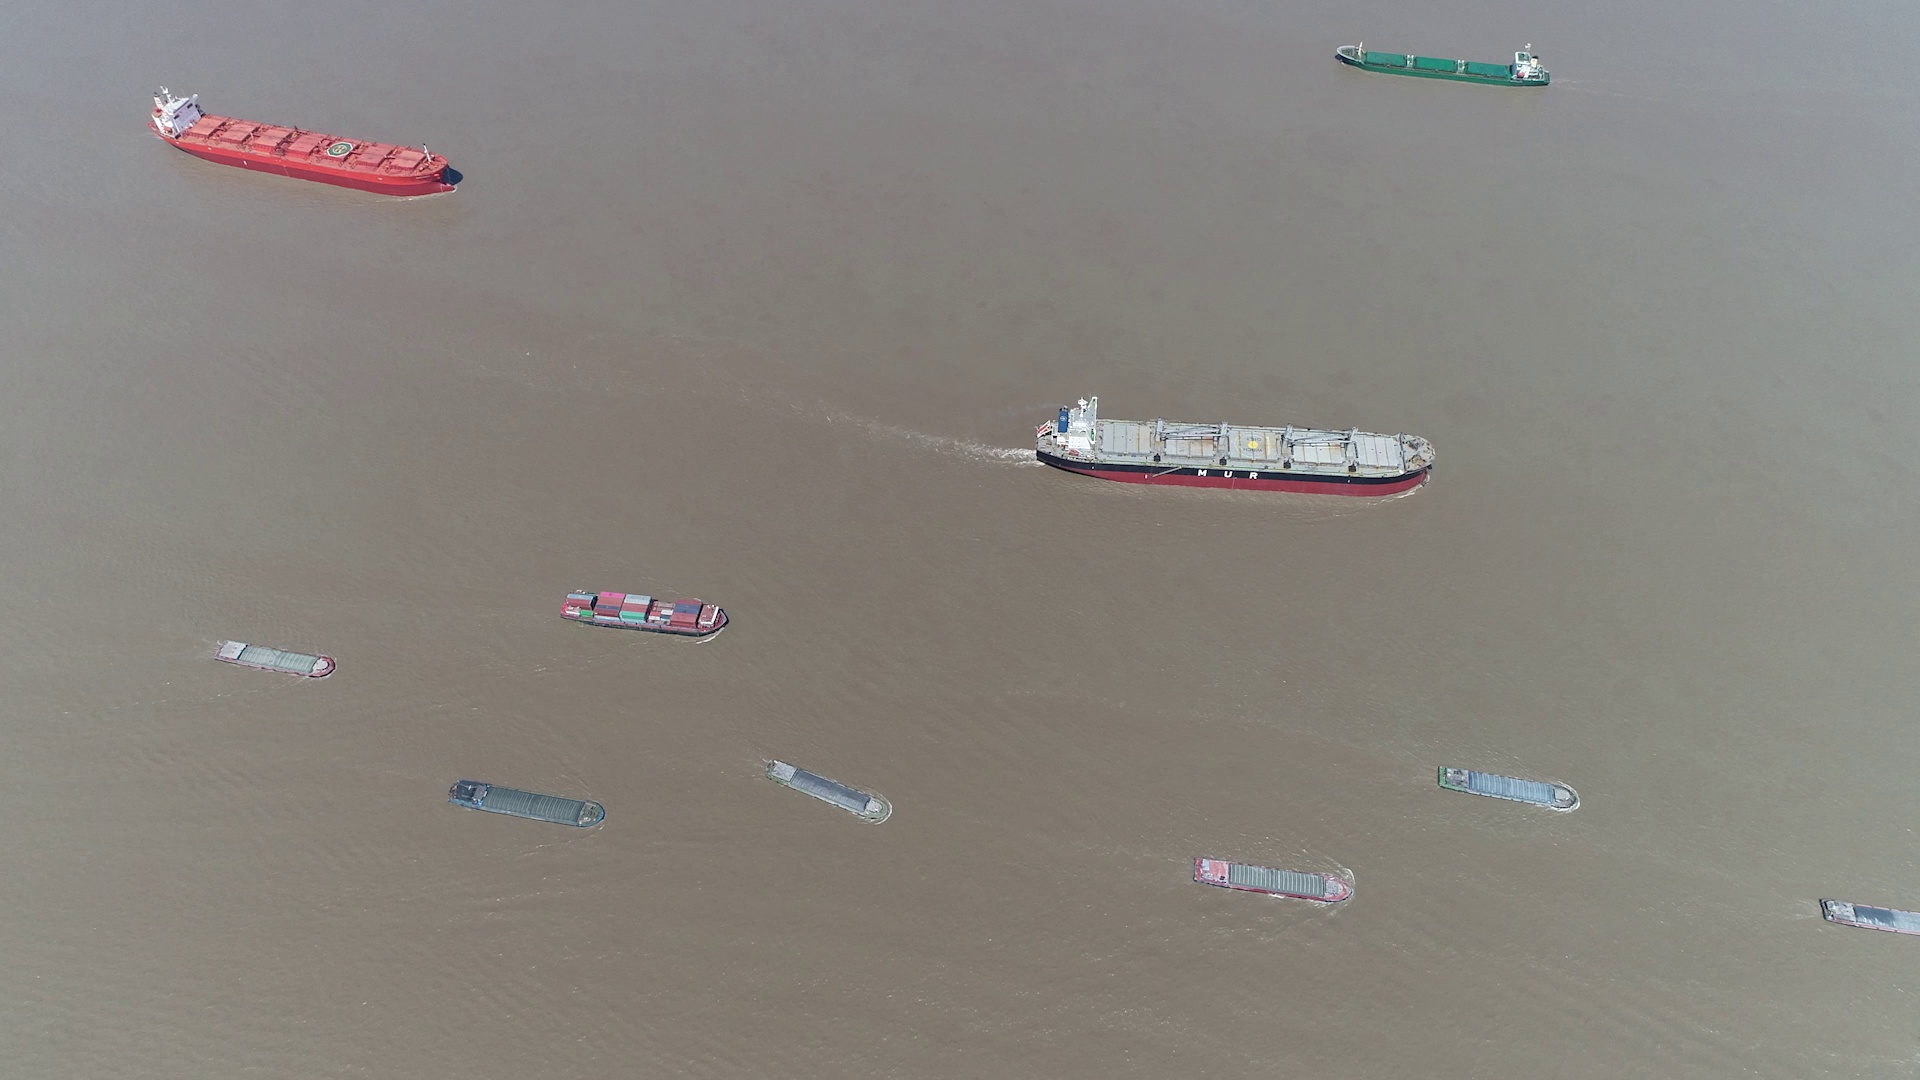ship: (1036, 405, 1432, 495), (152, 87, 458, 195), (1333, 41, 1553, 88), (448, 778, 607, 829), (560, 588, 731, 636), (770, 760, 893, 823), (1195, 860, 1353, 905), (1437, 767, 1581, 811), (215, 640, 336, 678), (1818, 897, 1920, 936)
